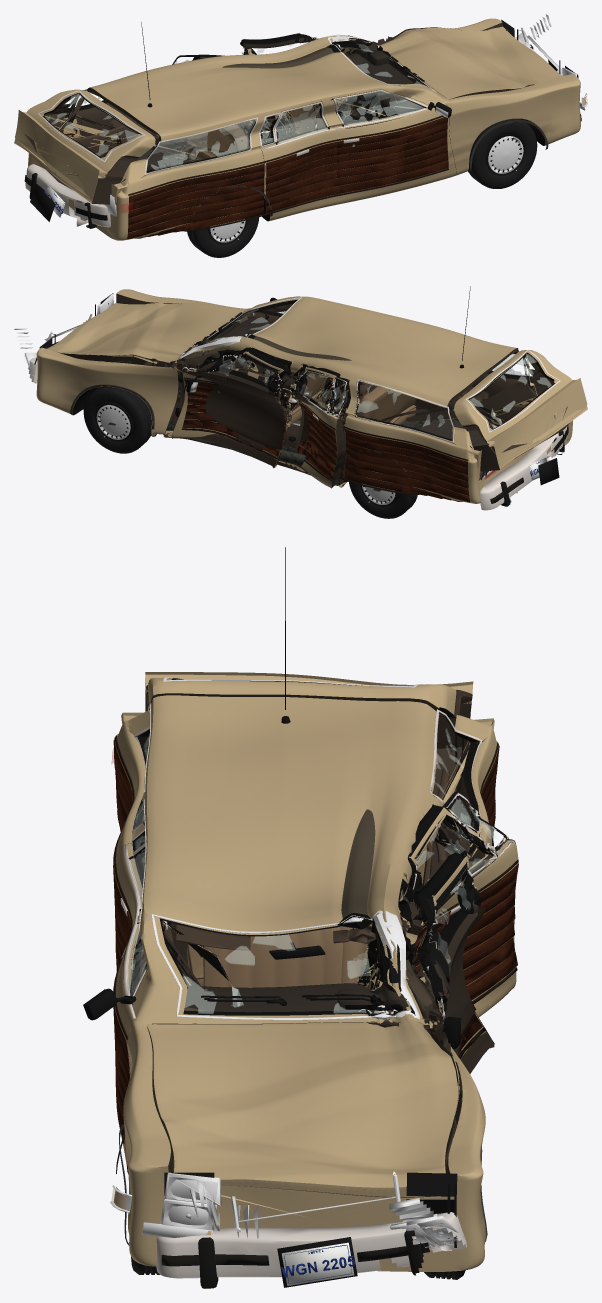
The model's file is wagon82_side_d2_lod1.glb.
3 renders of one model, top to bottom at view 1: azimuth 30°, elevation 25°; view 2: azimuth 150°, elevation 25°; view 3: azimuth 270°, elevation 25°, orthographic. The views are drawn at different scales.
Parts seen in each view (by area): view 1: Body, Trim, Hood, Tailgate, Trim_FR, Interior, Trim_RR, Wheel_FR_mesh, Door_FR, Glass, Door_RR, Bumper_R (+6 smaller); view 2: Body, Hood, Trim, Door_FL, Tailgate, Interior, Wheel_FL_mesh, Bumper_R, Door_RL, Trim_FL, Trim_RL, Wheel_RL_mesh (+7 smaller); view 3: Body, Hood, Interior, Ends, Bumper_F, Tailgate, Glass, Door_FL, Trim_RL, Trim, Door_RL, Trim_FR (+6 smaller).
Part boxes in pixels (x1,y1,x2,y2): Body: (28,18,580,240); Trim: (58,22,548,239); Hood: (379,26,562,99); Tailgate: (14,89,155,204); Trim_FR: (333,90,451,195); Interior: (72,42,420,169); Trim_RR: (259,102,340,213); Wheel_FR_mesh: (468,118,537,188); Door_FR: (333,89,456,203); Glass: (70,34,436,169); Door_RR: (259,101,339,220); Bumper_R: (24,164,110,228); Body: (36,289,572,503); Hood: (46,303,245,364); Trim: (70,286,533,502); Door_FL: (171,347,289,468); Tailgate: (453,350,587,471); Interior: (186,315,525,446); Wheel_FL_mesh: (83,386,151,453); Bumper_R: (480,425,568,510); Door_RL: (293,366,346,488); Trim_FL: (181,354,286,459); Trim_RL: (294,372,346,480); Wheel_RL_mesh: (349,455,417,518); Body: (114,695,498,1271); Hood: (147,1019,459,1196); Interior: (176,768,449,1014); Ends: (110,733,464,1287); Bumper_F: (156,1212,466,1288); Tailgate: (145,672,473,795); Glass: (134,703,482,1020); Door_FL: (413,852,494,1074); Trim_RL: (413,792,518,1004); Trim: (113,547,499,1245); Door_RL: (408,805,518,1017); Trim_FR: (83,863,146,1143).
Size of the model in its own units: 5.27 by 2.08 by 1.94.
Materials: 35 (6 with a texture image).
